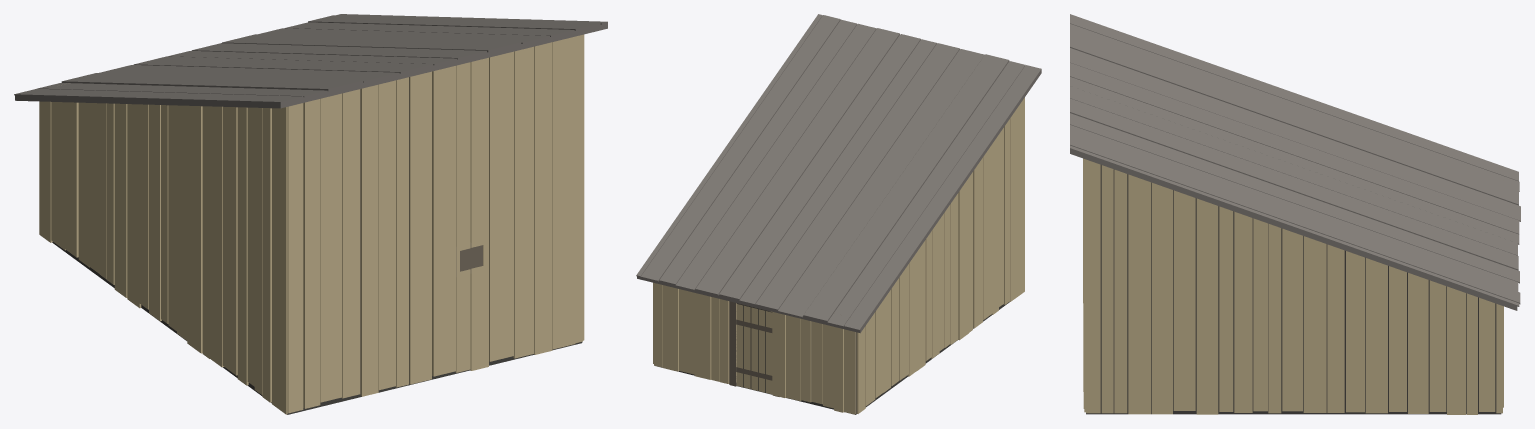
The model's file is recon_1835_north_d2_046__inferred_1835.glb.
The picture shows the model from 3 angles, left to right: view 1: azimuth 30°, elevation 25°; view 2: azimuth 150°, elevation 25°; view 3: azimuth 270°, elevation 25°; orthographic projection. The views are drawn at different scales.
Parts seen in each view (by area): view 1: recon_1835_north_d2_046__inferred_1835; view 2: recon_1835_north_d2_046__inferred_1835; view 3: recon_1835_north_d2_046__inferred_1835.
Part boxes in pixels (bbox=[...]): recon_1835_north_d2_046__inferred_1835: bbox=[14, 14, 607, 414]; recon_1835_north_d2_046__inferred_1835: bbox=[636, 14, 1041, 414]; recon_1835_north_d2_046__inferred_1835: bbox=[1070, 14, 1520, 414].
Size of the model in its own units: 5.26 by 5 by 7.46.
